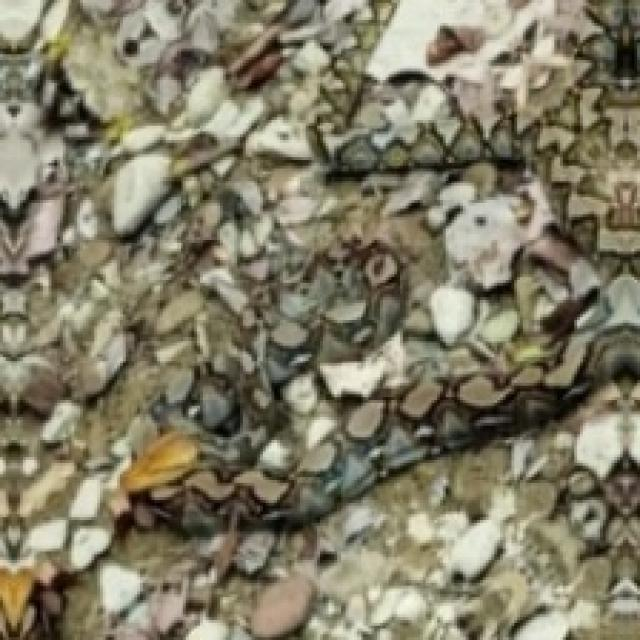reticulated python: (121, 332, 640, 532), (309, 0, 640, 279), (151, 241, 405, 479)
